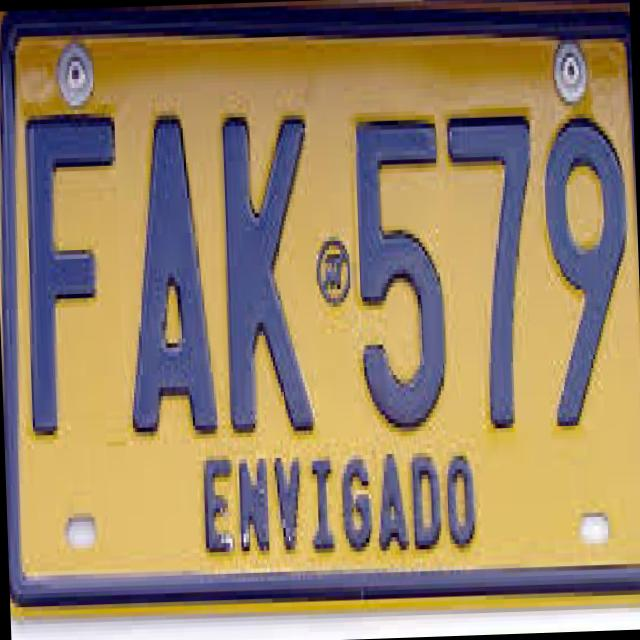number plate: (0, 1, 640, 603)
